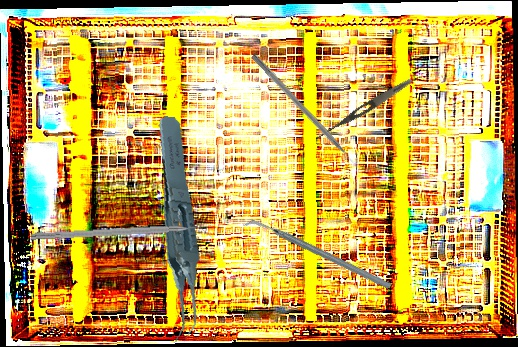Chopper: (242, 176, 392, 333), (30, 223, 213, 250)
Dressing Forceps: (315, 75, 415, 143)
Pusher: (249, 53, 363, 173)
Tissue Forceps: (123, 114, 228, 347)
